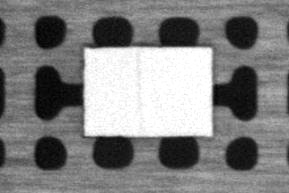DIE_CRACK: (132, 48, 147, 130)
